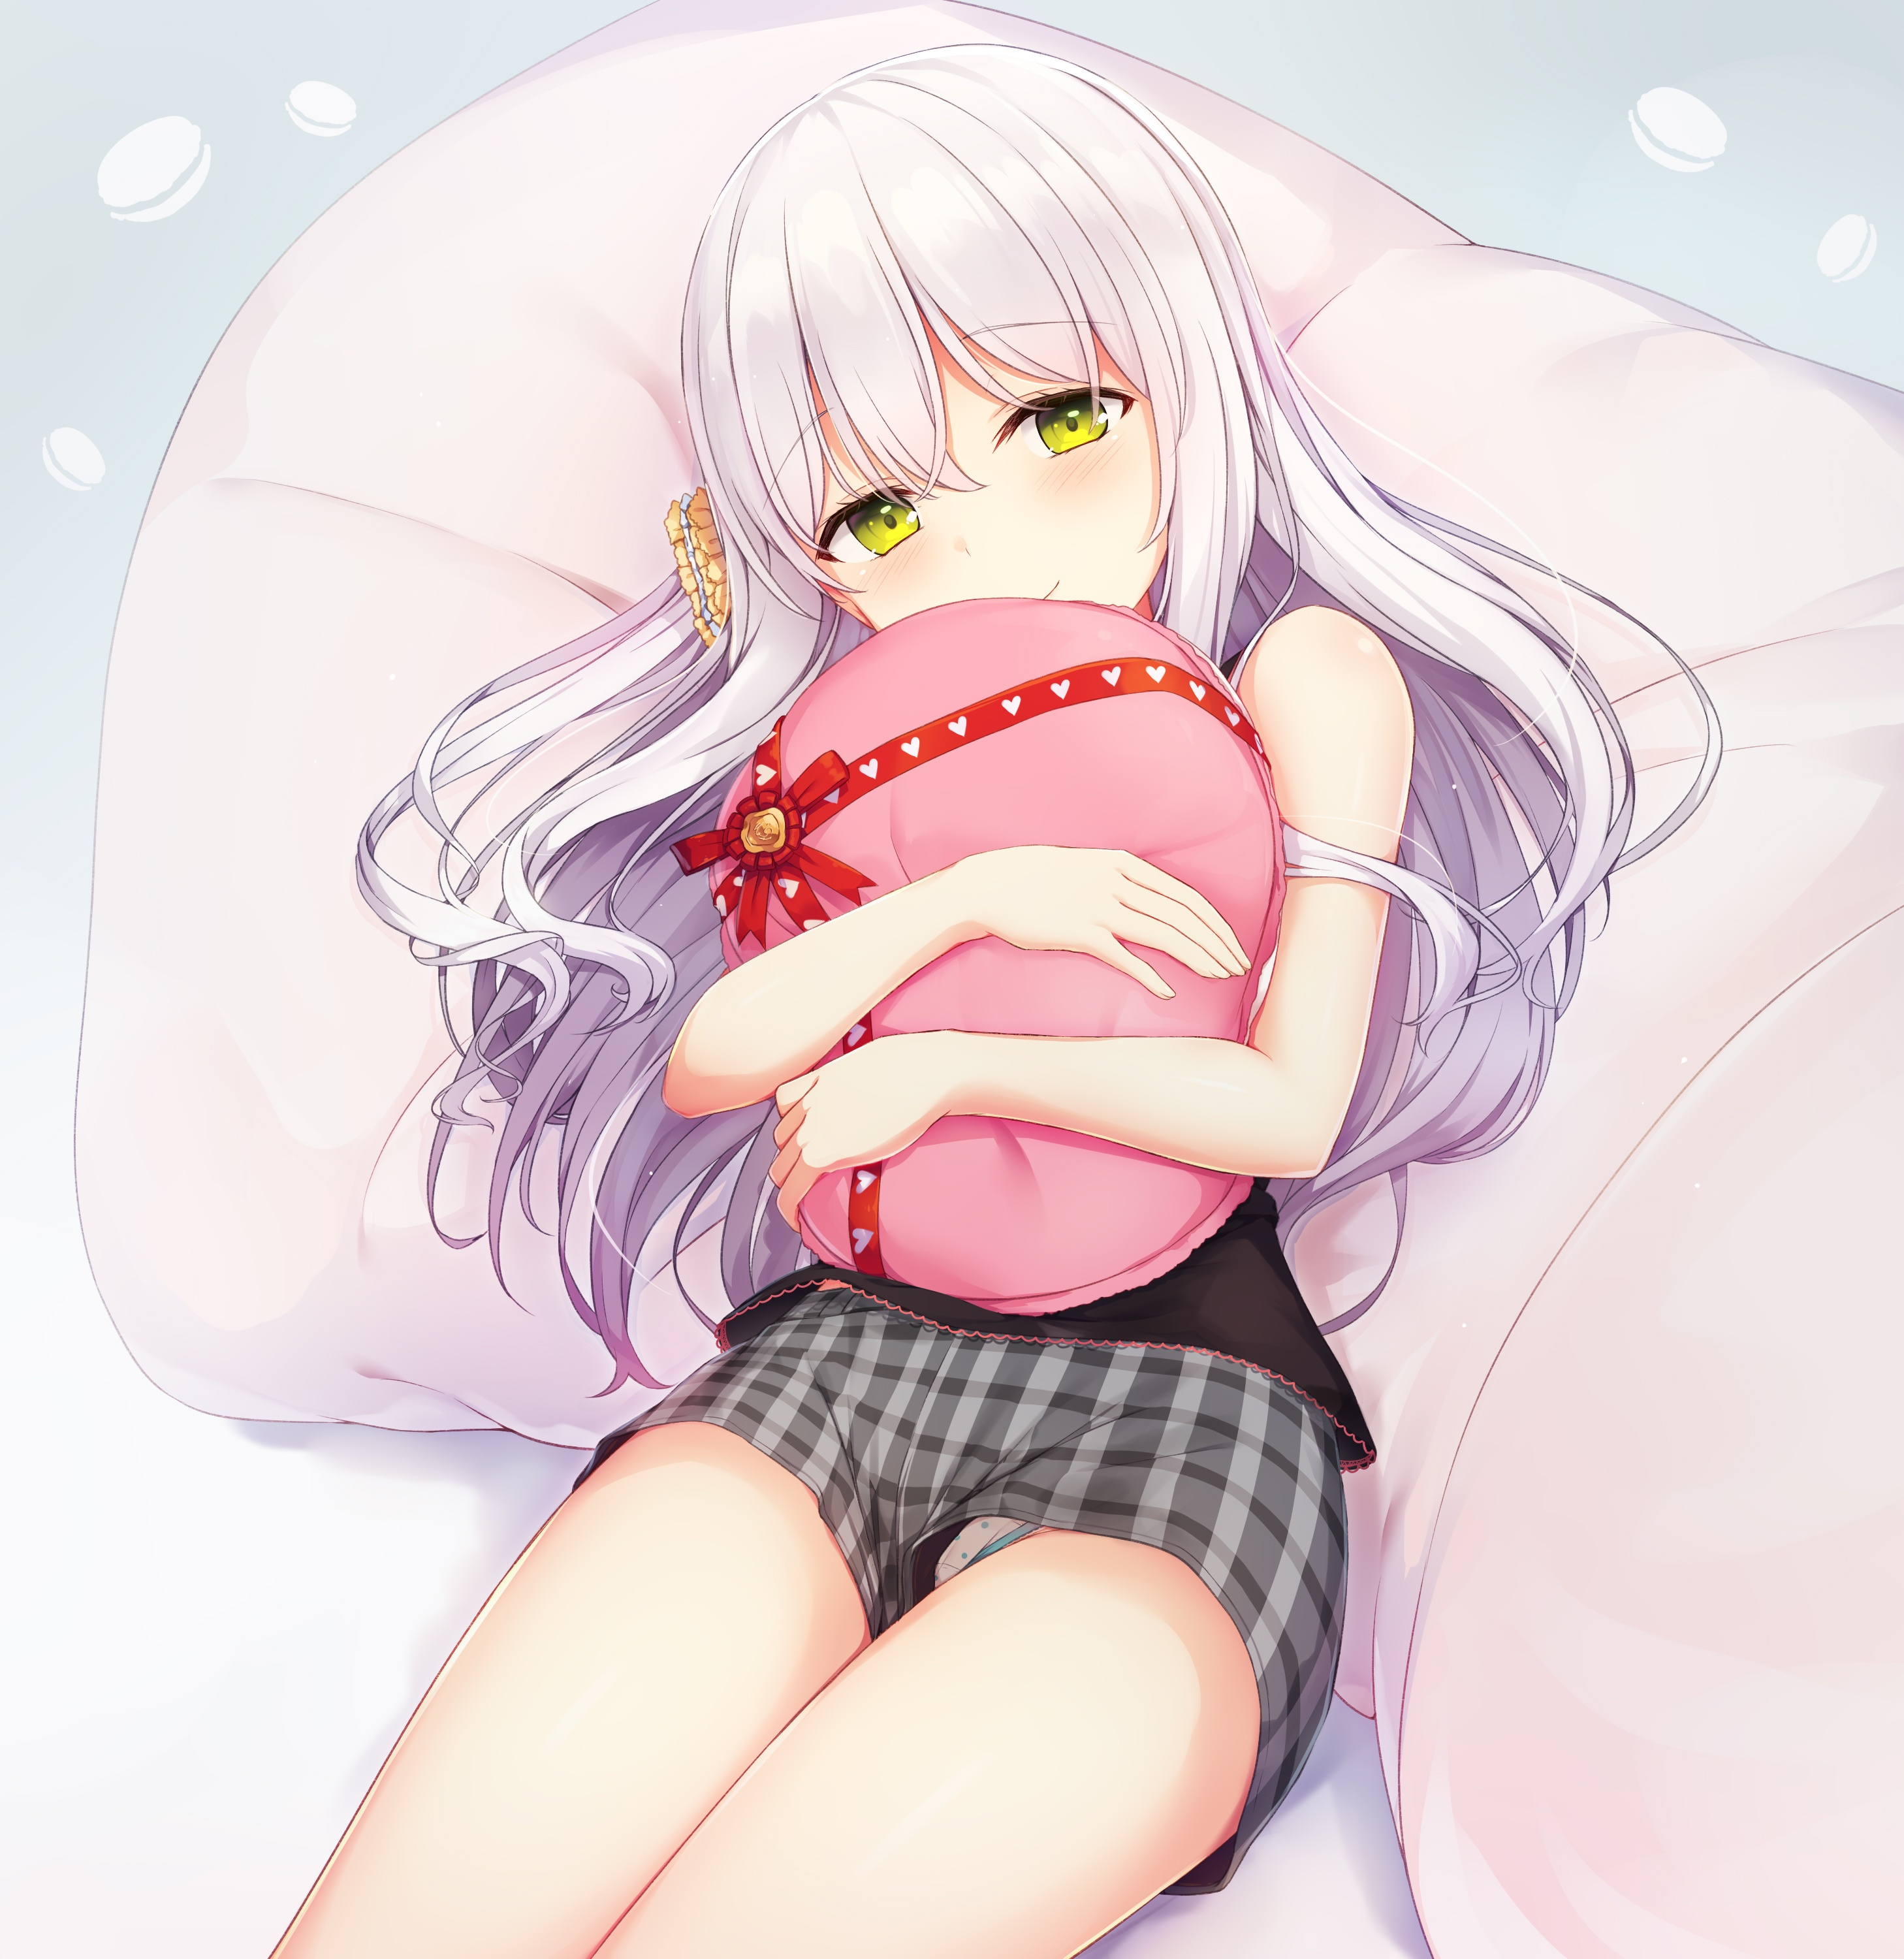纸片人正脸: (615, 25, 1295, 662)
